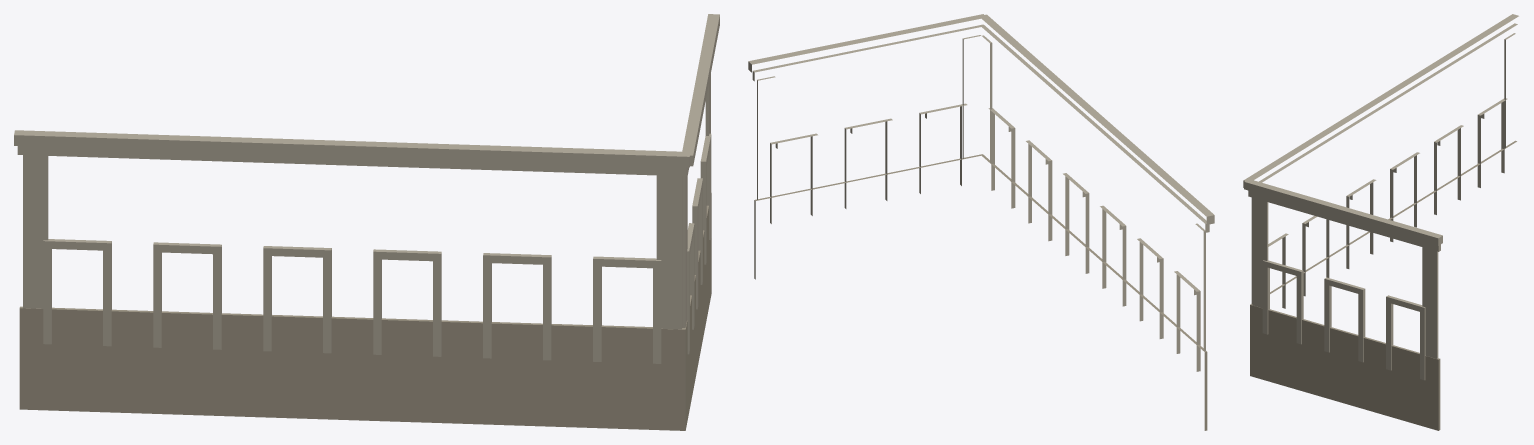
The picture shows the model from 3 angles, left to right: view 1: azimuth 30°, elevation 25°; view 2: azimuth 150°, elevation 25°; view 3: azimuth 270°, elevation 25°; orthographic projection. The views are drawn at different scales.
Parts seen in each view (by area): view 1: detail; view 2: detail; view 3: detail.
Part boxes in pixels (box(x1,y1,x2,y2)): detail: box(14, 14, 719, 430); detail: box(748, 14, 1214, 430); detail: box(1243, 14, 1518, 430).
Bounding box in the file's own units: 17.92 × 7.28 × 9.31.
